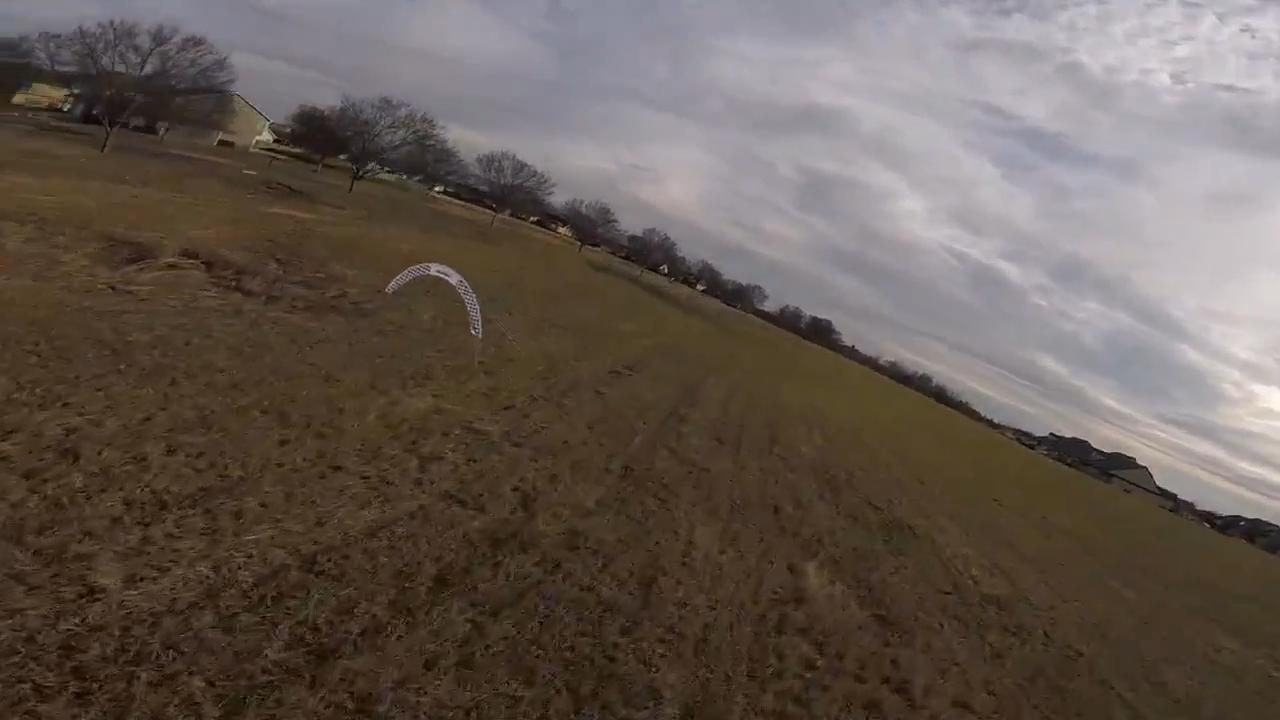gate: (384, 259, 484, 343)
